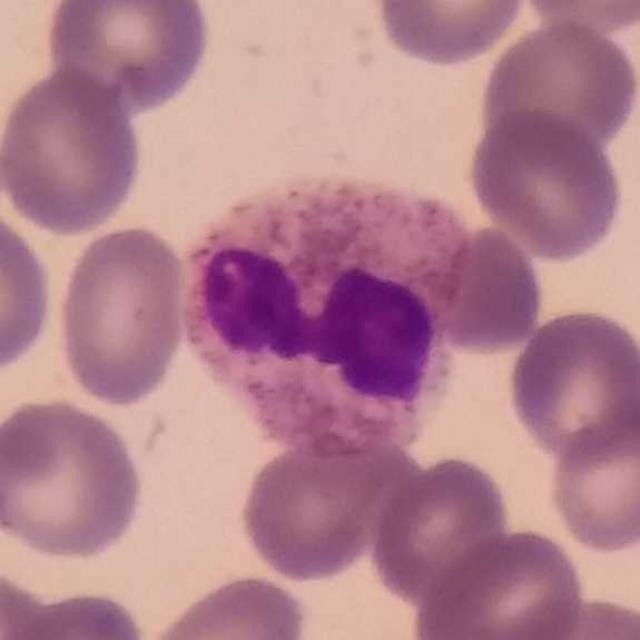Neutrophil: (168, 173, 479, 458)
RBC: (232, 430, 416, 584), (464, 104, 627, 264), (52, 220, 190, 408), (0, 64, 147, 237), (1, 393, 148, 564), (366, 452, 516, 611), (476, 17, 639, 158), (504, 304, 640, 465), (411, 524, 590, 640), (41, 0, 215, 115), (422, 222, 546, 355), (544, 396, 640, 558), (142, 570, 313, 640), (370, 0, 532, 69), (0, 200, 58, 382), (1, 585, 150, 640), (507, 591, 640, 640), (0, 567, 68, 640), (520, 0, 640, 36)
